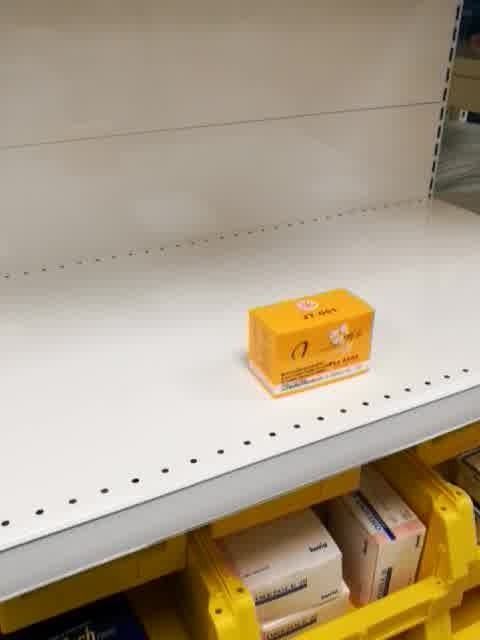jasminetea: (240, 283, 377, 403)
